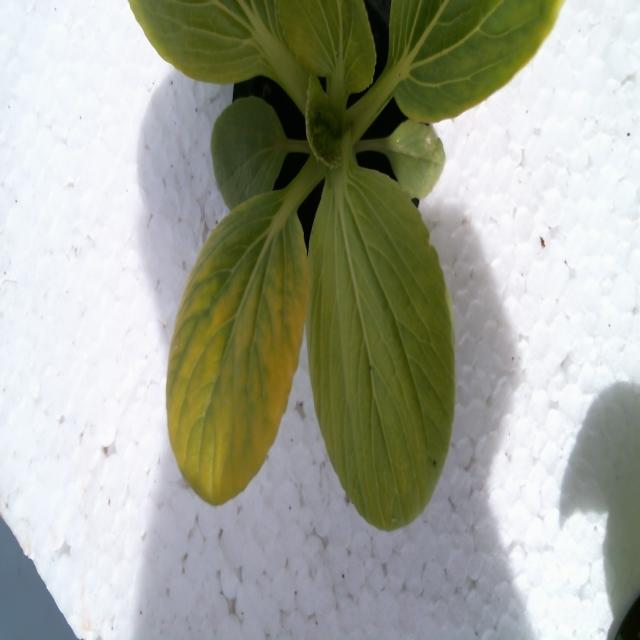pakcoy_tidak_sehat: (100, 177, 379, 532)
